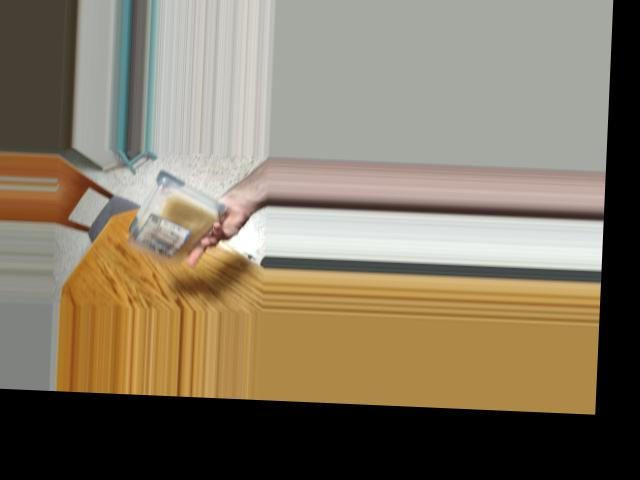cheese: (130, 185, 219, 260)
